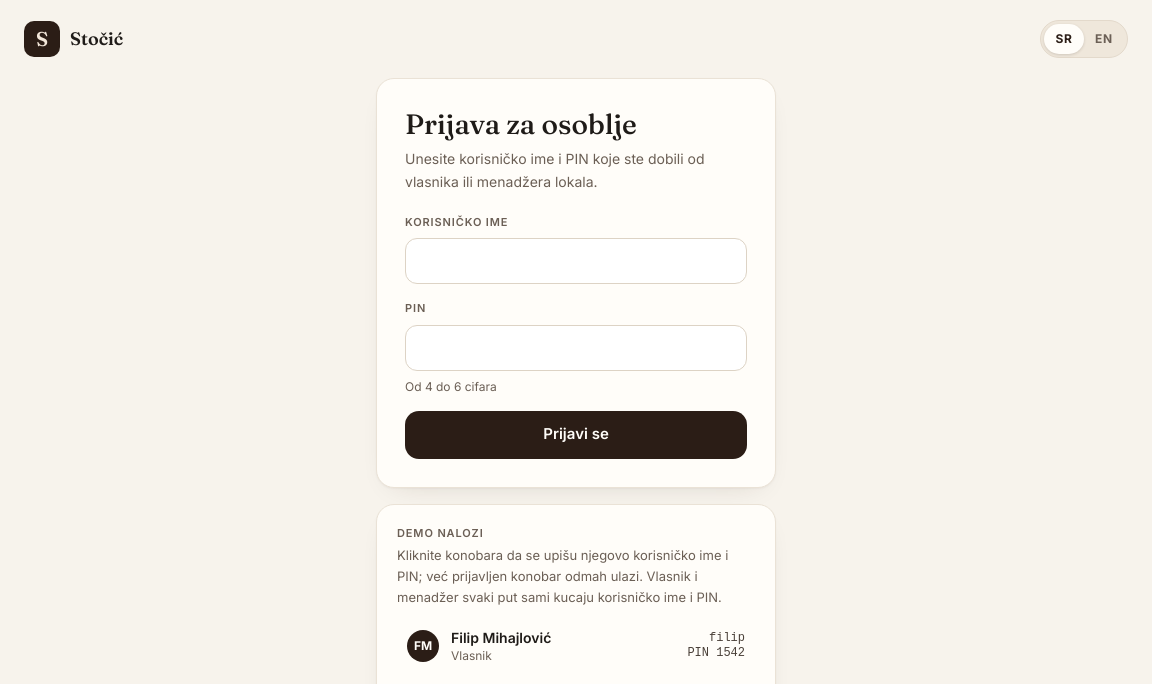
Scenario: staff › a wrong PIN is refused and has to be typed again; an inactive account cannot sign in
Type "ana" into the field labelled "Korisničko ime" at (576, 261), box [405,238,747,284]
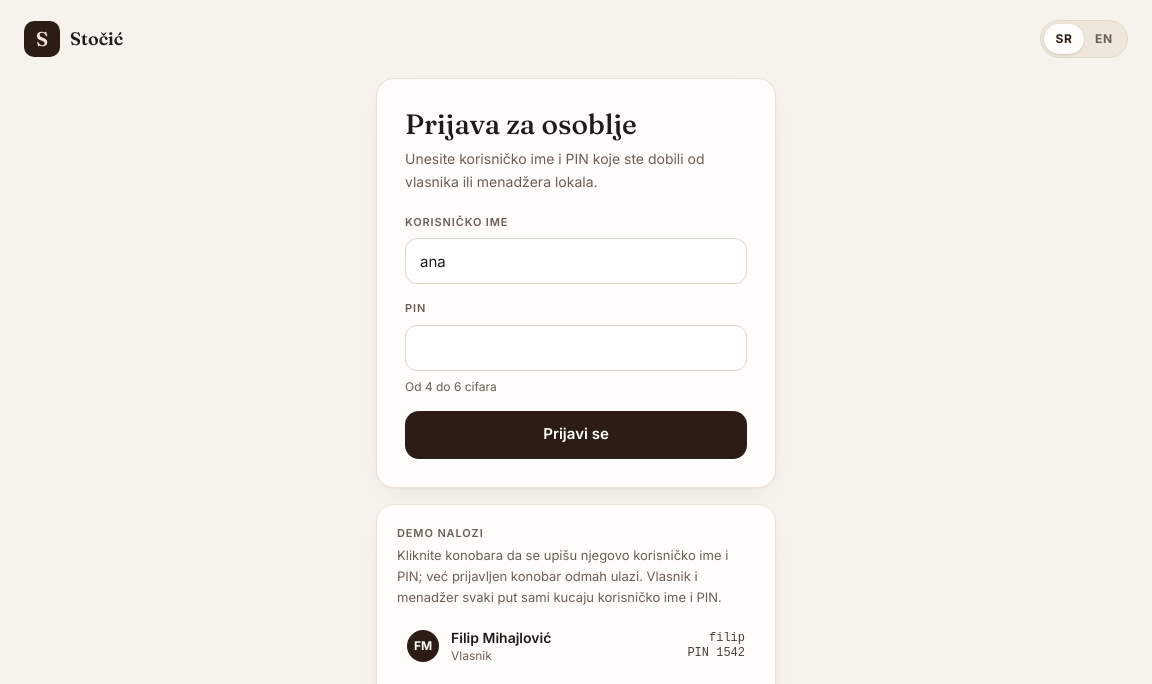
Type "000000" into the password field labelled "PIN" at (576, 348), box [405,324,747,370]
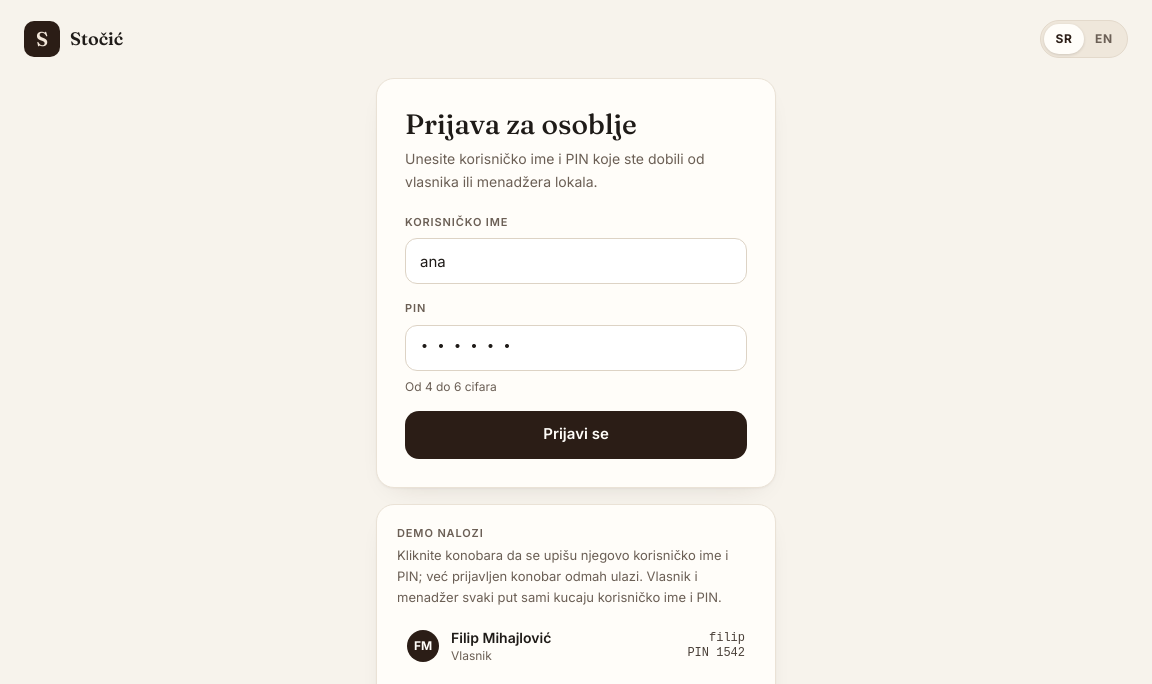
Click the button "Prijavi se" at (576, 434), box [405,410,747,458]
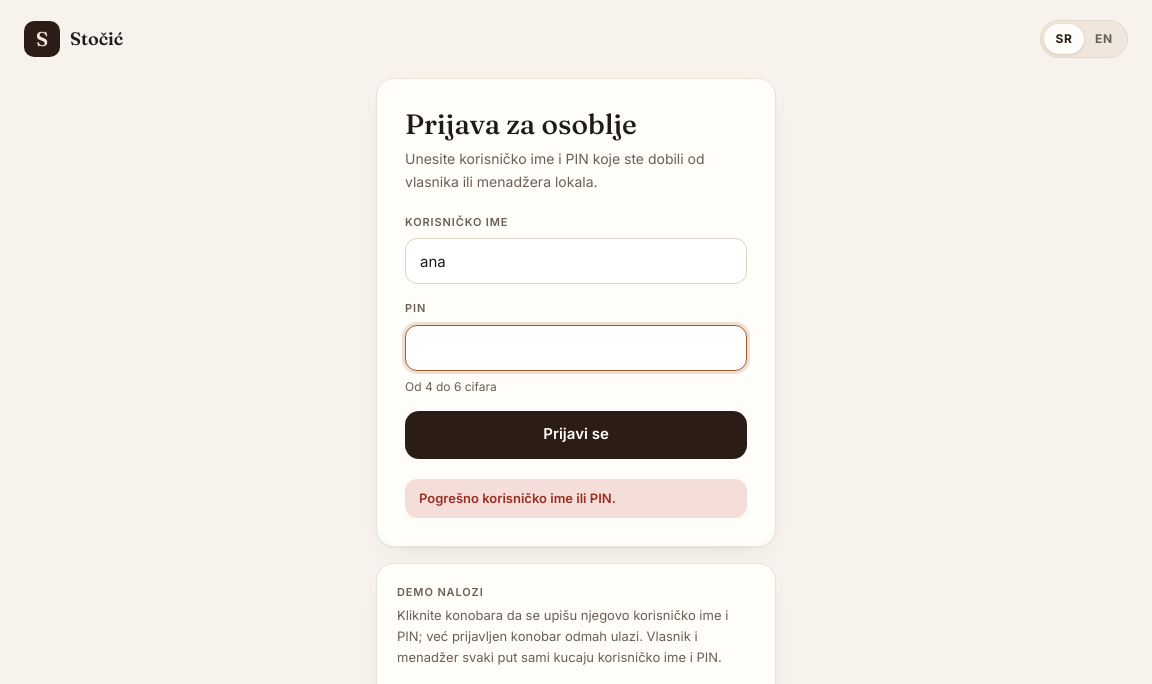
Check: the text "Pogrešno korisničko ime ili PIN." is shown, box [405,478,747,518]
Check: the password field labelled "PIN" is empty, box [405,324,747,370]
